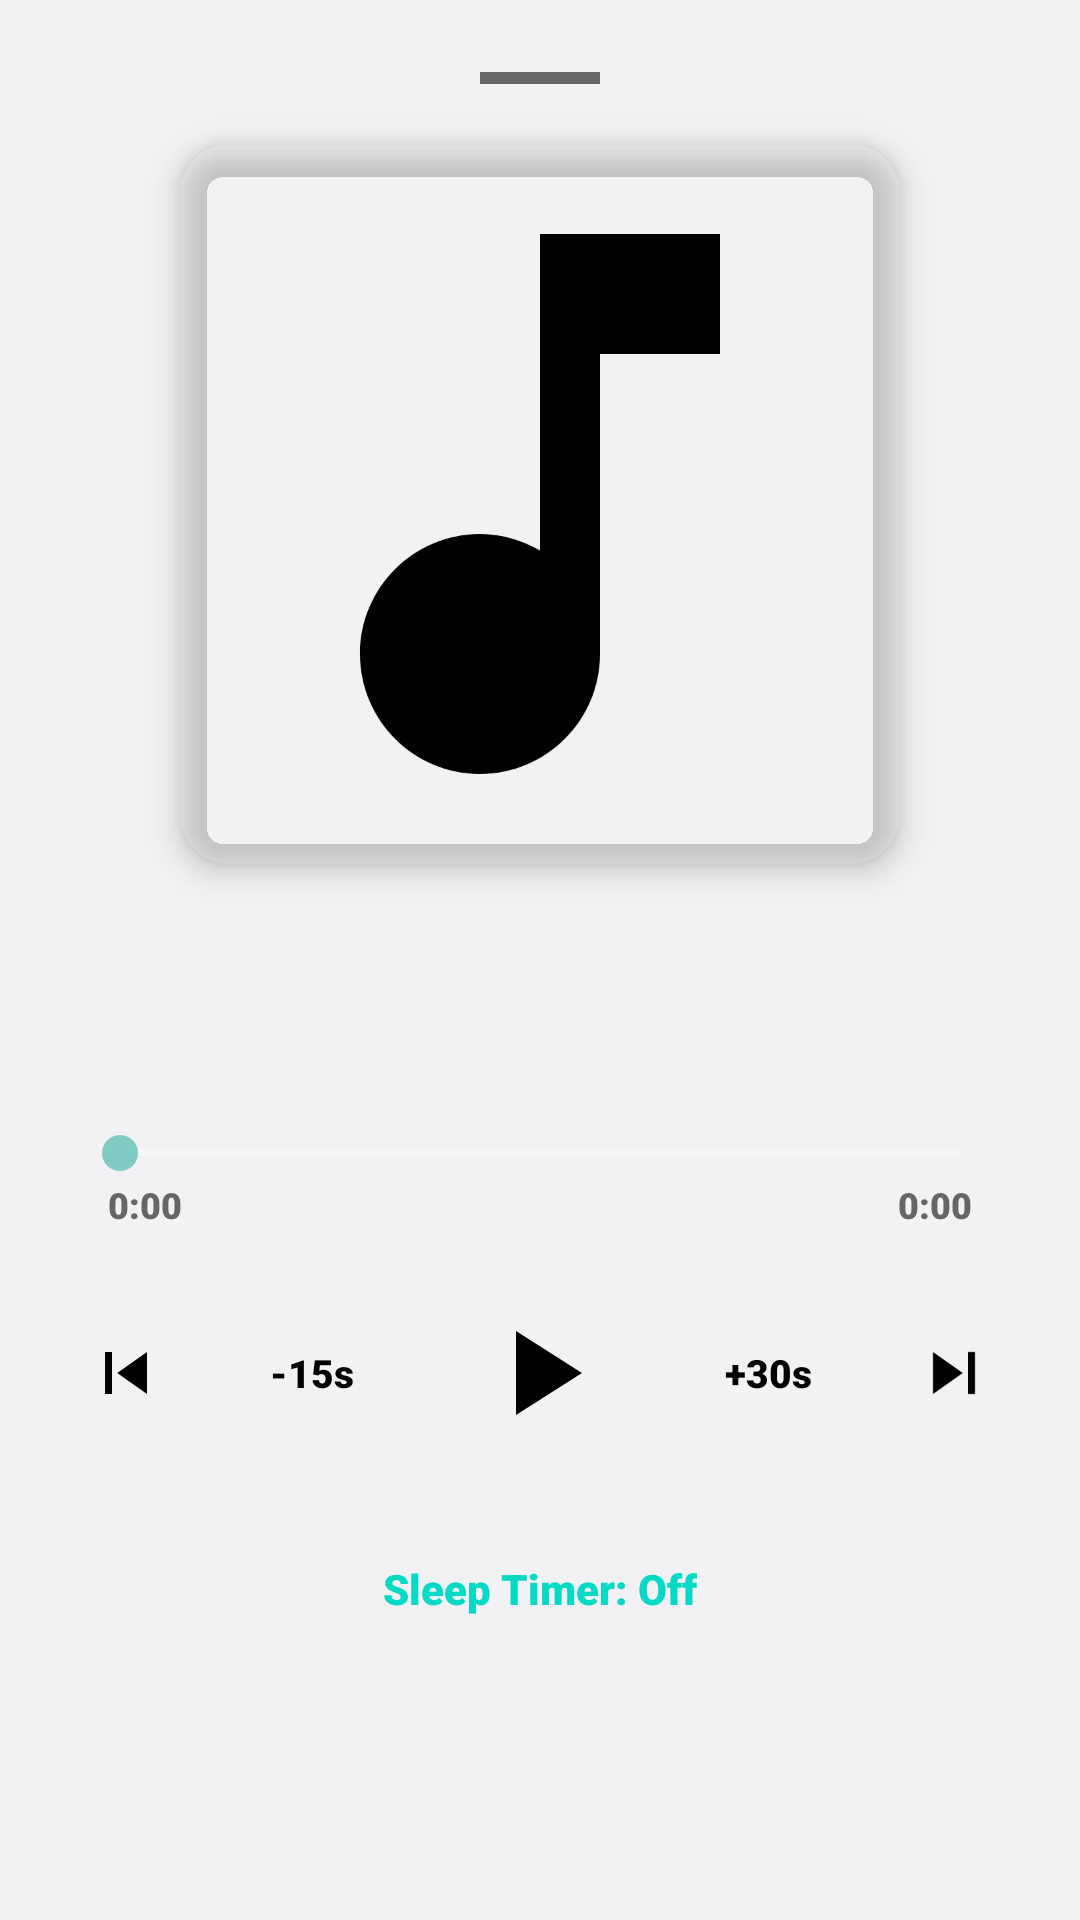

Where icons sit on this 1080 x 1920 app screen, as (x1, y1, x2, y2):
Next: (932, 1351, 976, 1395)
Play Pause: (516, 1331, 582, 1415)
Previous: (105, 1352, 147, 1394)
